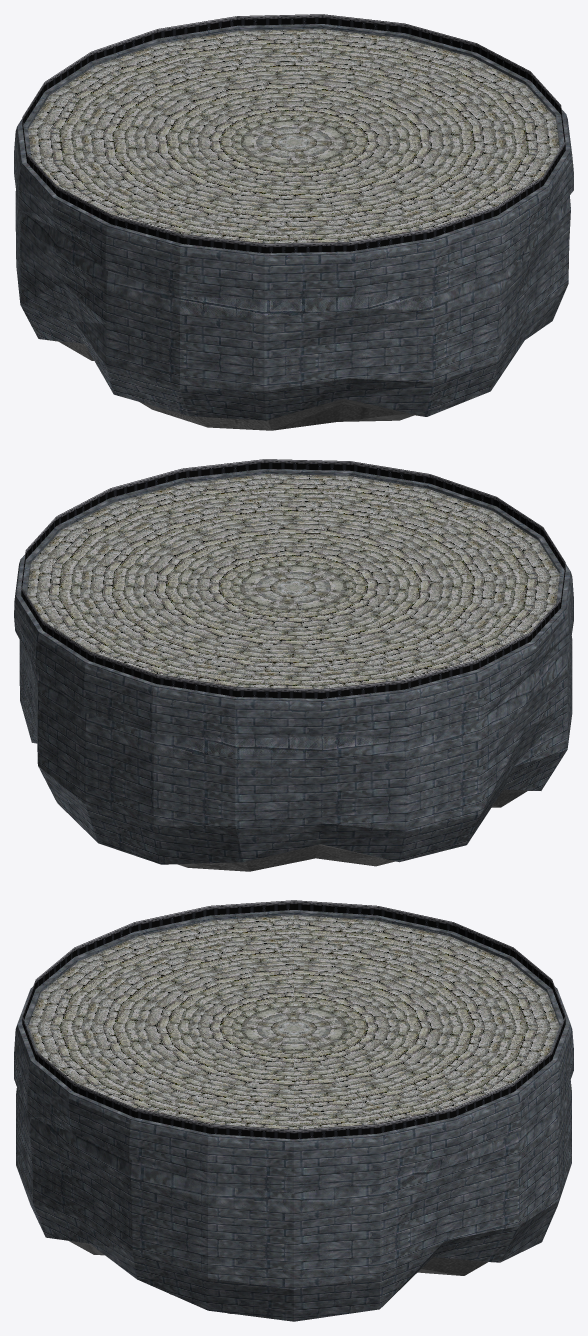
The model's file is PoltaBattlePlanet.dae.
The picture shows the model from 3 angles, top to bottom: view 1: azimuth 30°, elevation 25°; view 2: azimuth 150°, elevation 25°; view 3: azimuth 270°, elevation 25°; orthographic projection.
Parts seen in each view (by area): view 1: m2, m3, m0, m1; view 2: m2, m3, m0, m1; view 3: m2, m3, m0, m1.
Boxes of the visible parts, left/top/right/bottom form: m2: left=14, top=24, right=573, bottom=420; m3: left=28, top=29, right=559, bottom=243; m0: left=22, top=14, right=565, bottom=253; m1: left=42, top=339, right=423, bottom=430; m2: left=14, top=469, right=573, bottom=864; m3: left=27, top=474, right=559, bottom=689; m0: left=21, top=459, right=565, bottom=698; m1: left=178, top=789, right=533, bottom=871; m2: left=14, top=910, right=573, bottom=1321; m3: left=28, top=915, right=559, bottom=1129; m0: left=22, top=900, right=565, bottom=1139; m1: left=69, top=1241, right=496, bottom=1313.
Bounding box in the file's own units: 5266 × 2244 × 5281.
4 materials, 4 textured.
